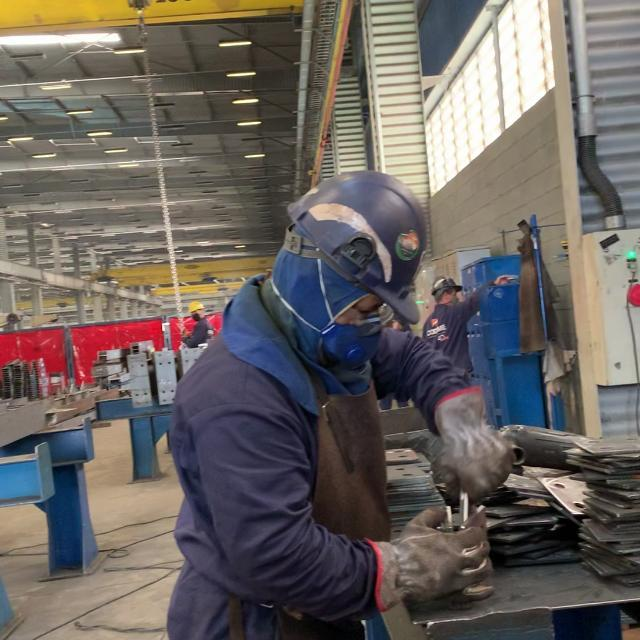eye-glass: (314, 255, 400, 332)
face-shield: (368, 504, 496, 607), (431, 384, 513, 504)
glove: (288, 170, 445, 327)
helmet: (323, 323, 380, 368)
mask: (171, 168, 513, 640)
